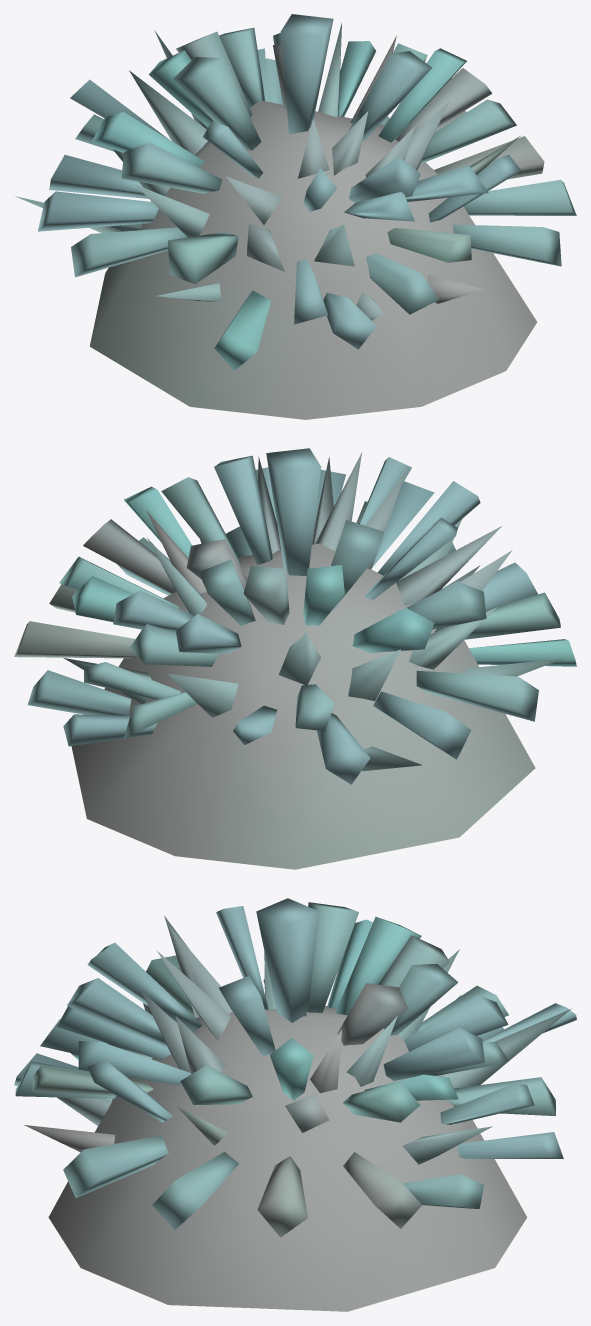
The picture shows the model from 3 angles, top to bottom: view 1: azimuth 30°, elevation 25°; view 2: azimuth 150°, elevation 25°; view 3: azimuth 270°, elevation 25°; orthographic projection. The views are drawn at different scales.
Parts seen in each view (by area): view 1: G:\FFXIV-MapTools\exports\l1f1\bg\ffxiv\lak_l1\fld\l1f1\bgpa; view 2: G:\FFXIV-MapTools\exports\l1f1\bg\ffxiv\lak_l1\fld\l1f1\bgpa; view 3: G:\FFXIV-MapTools\exports\l1f1\bg\ffxiv\lak_l1\fld\l1f1\bgpa.
Part boxes in pixels (x1,y1,x2,y2): G:\FFXIV-MapTools\exports\l1f1\bg\ffxiv\lak_l1\fld\l1f1\bgpa: (15,14,576,419); G:\FFXIV-MapTools\exports\l1f1\bg\ffxiv\lak_l1\fld\l1f1\bgpa: (14,448,576,869); G:\FFXIV-MapTools\exports\l1f1\bg\ffxiv\lak_l1\fld\l1f1\bgpa: (14,898,576,1311).
Size of the model in its own units: 3.95 by 2.42 by 4.02.
